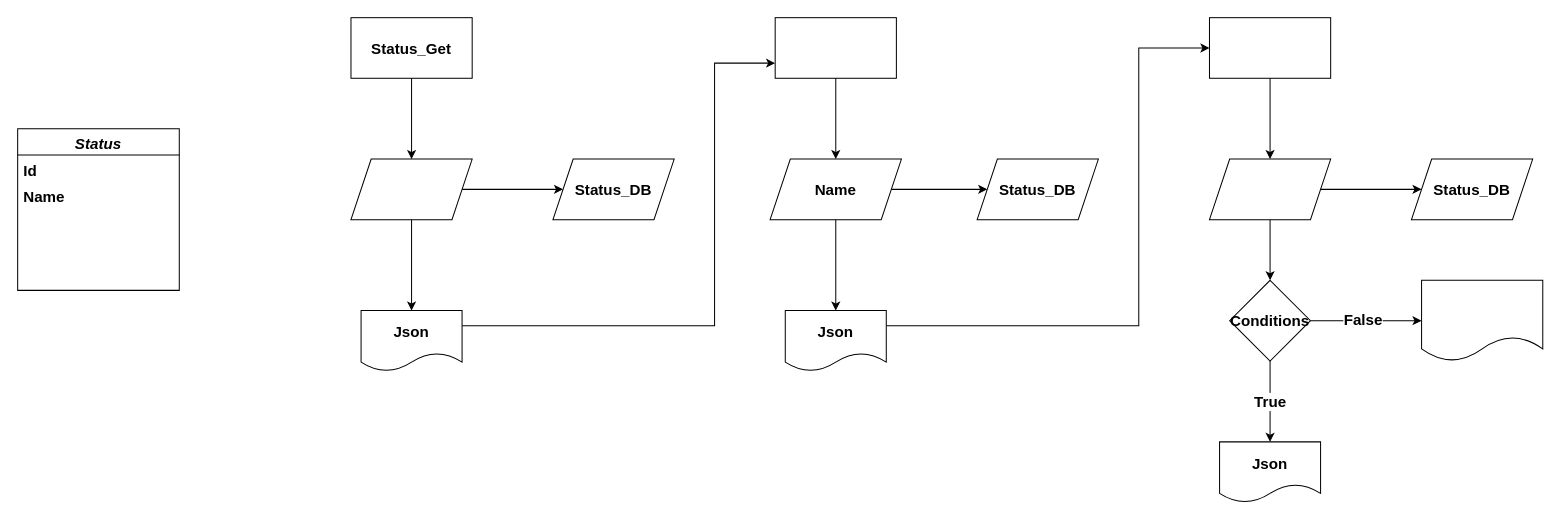
Some shapes in this 1560 by 520 pixel diagram are drawn without their labels. Here are the shapes that lost their labels. From the top down, the centre of each, then its label:
At [835,47]: "Status_Create".
At [1269,47]: "Status_Update".
At [411,189]: "Order".
At [1269,189]: "Name Id".
At [1482,320]: "Error".
